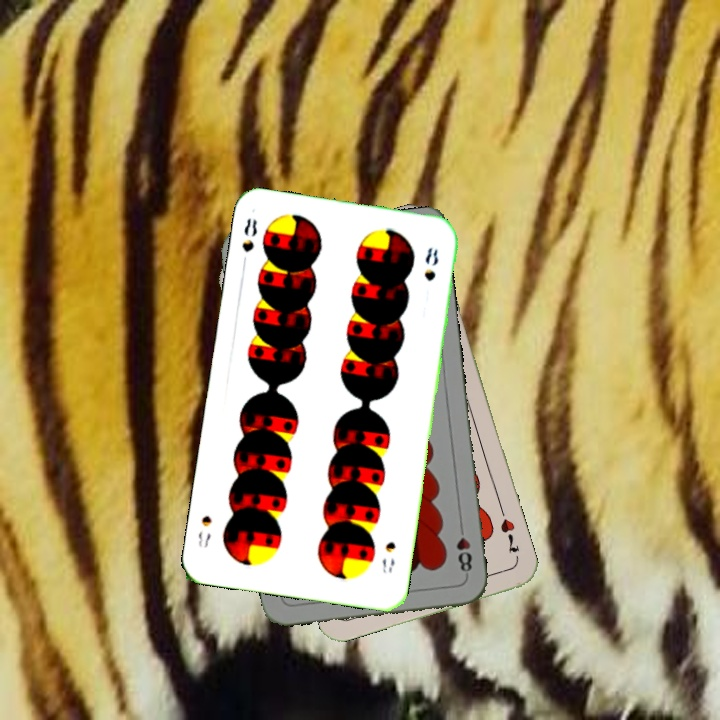H7: (496, 514, 522, 556)
H8: (452, 520, 474, 579)
S8: (238, 214, 260, 270), (378, 537, 398, 576)
